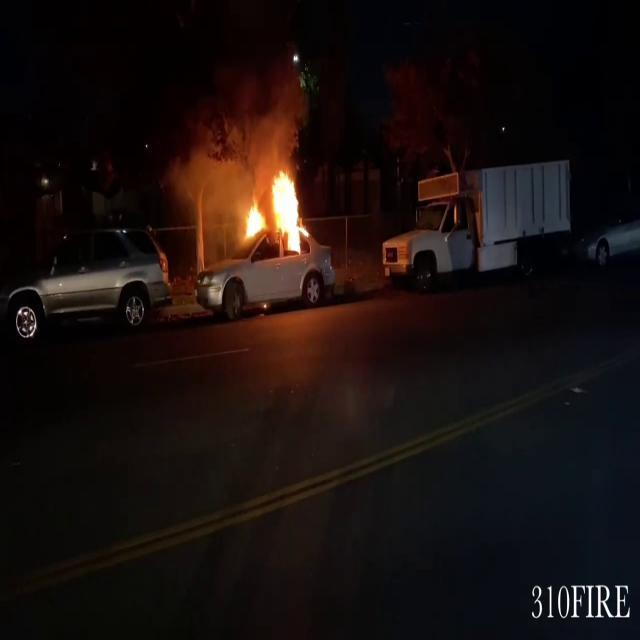Fire: (236, 163, 314, 254)
Smoke: (161, 54, 308, 195)
